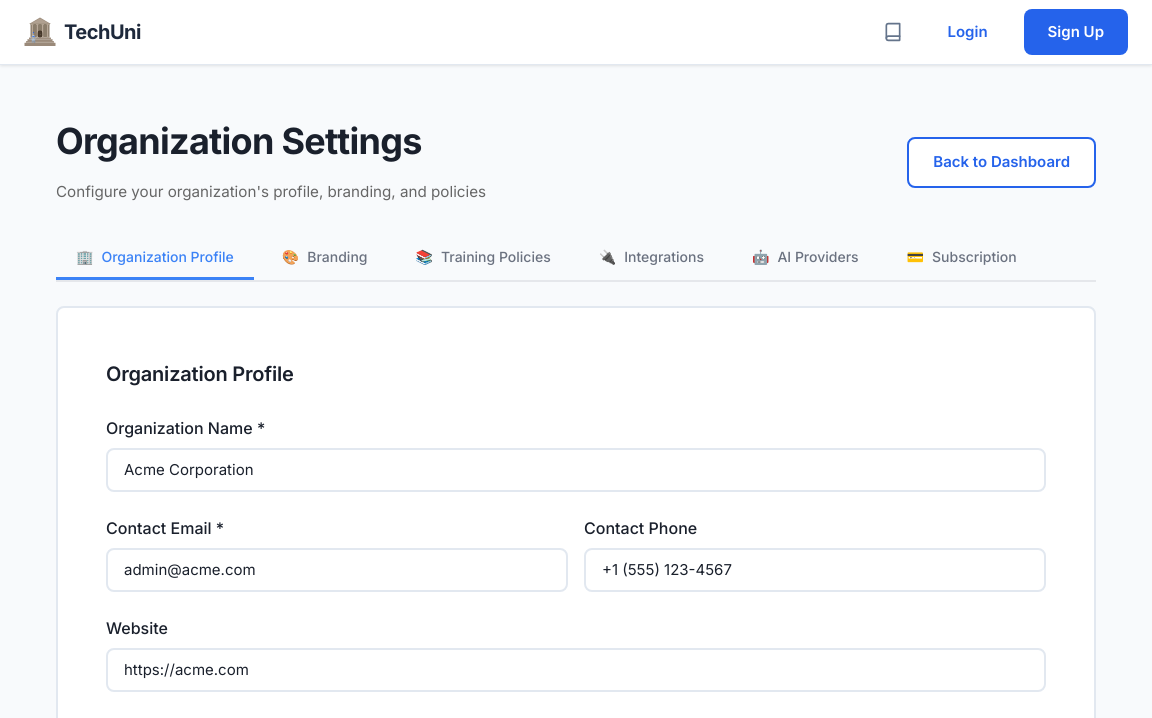
Scenario: OrganizationSettings Component › Tab Navigation › switches to training policies tab
Click the button "📚Training Policies".
click(483, 258)  # box [396,236,571,280]
(page scrolled)
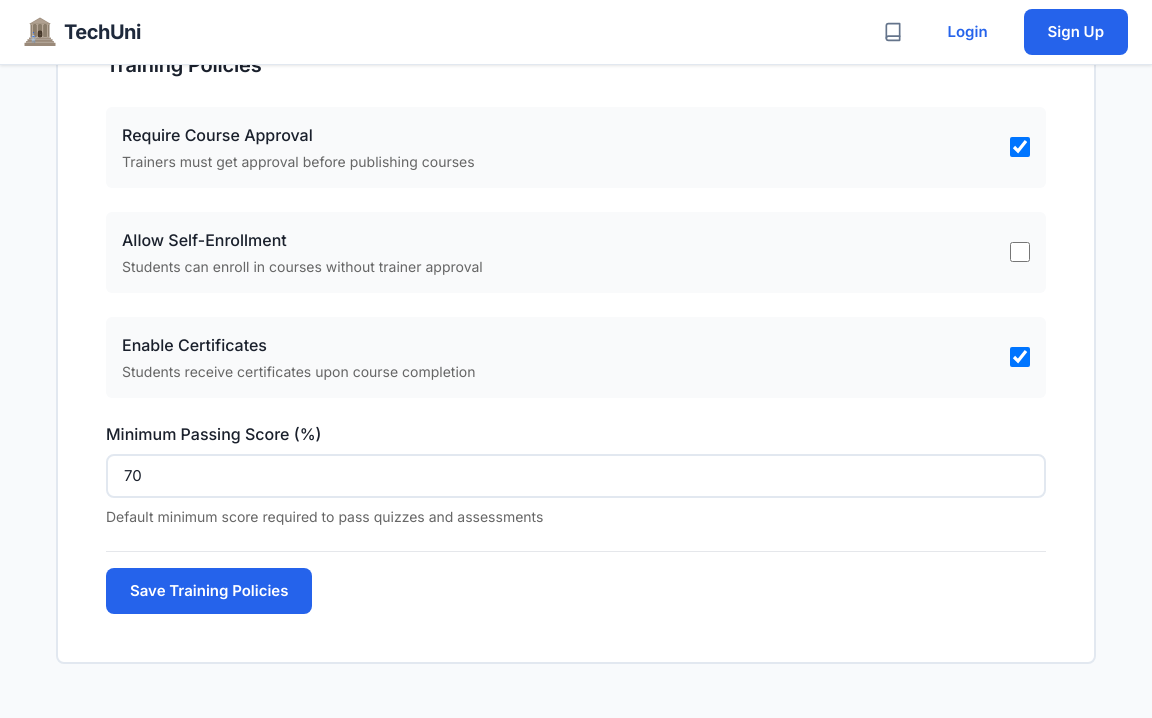
Expected: the number field labelled "Minimum Passing Score (%)" is shown, [106,454,1046,498]
